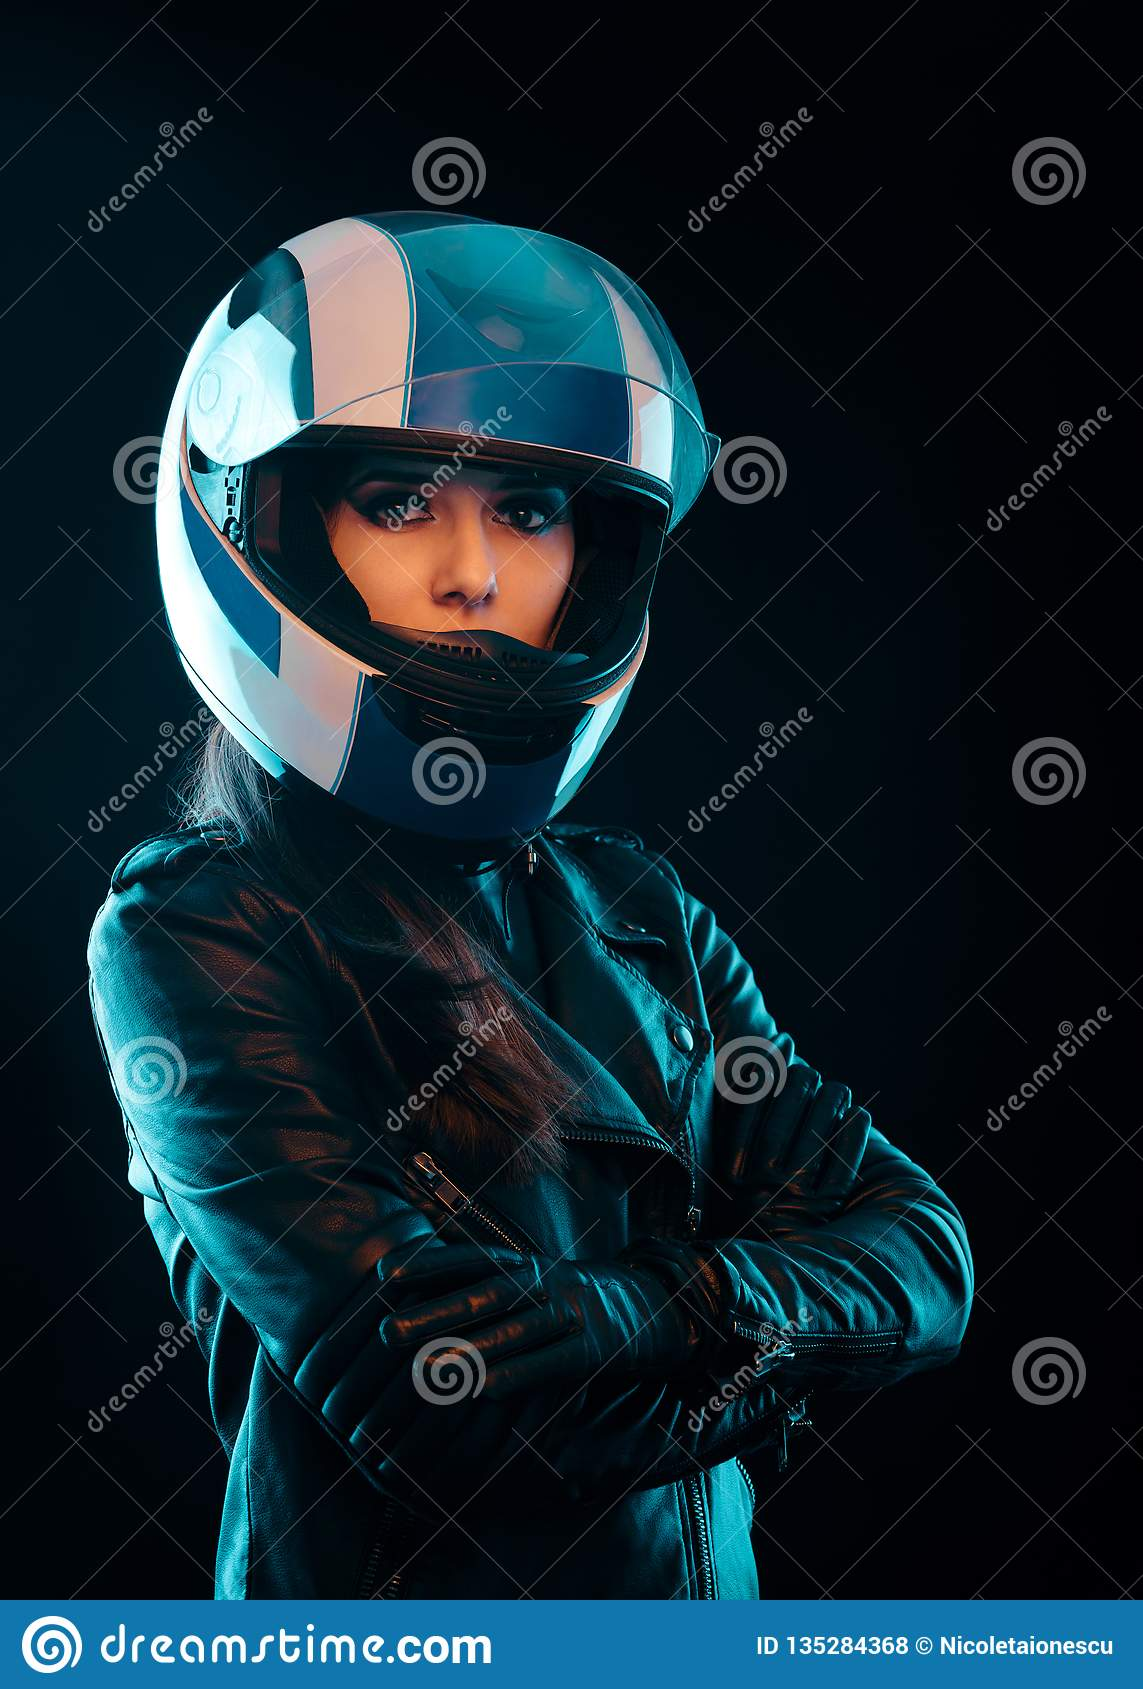helmet: (153, 193, 732, 839)
